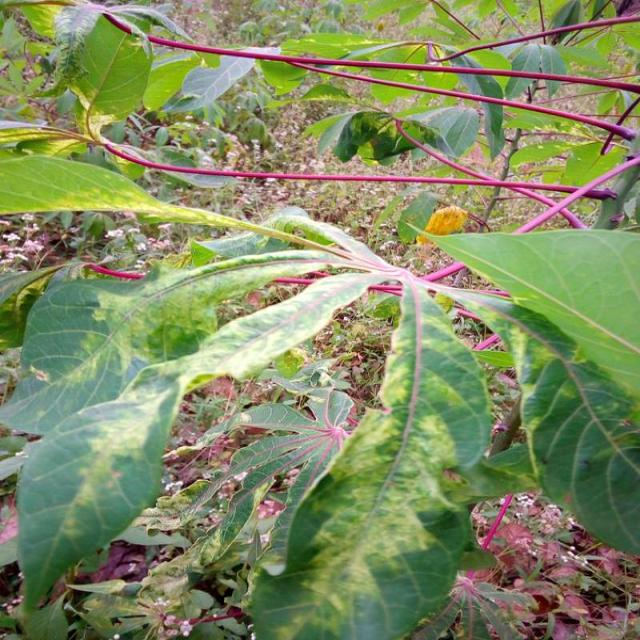cassava leaf: (11, 248, 390, 618), (241, 274, 494, 638), (412, 222, 639, 556)
